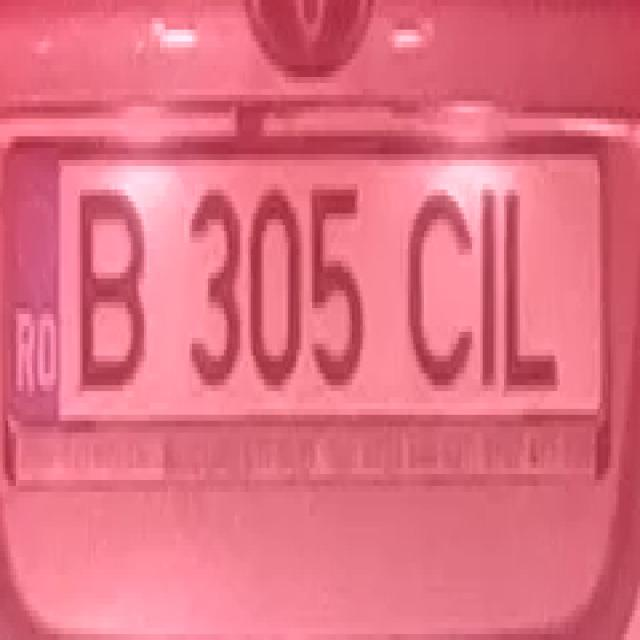EU: (0, 127, 612, 490)
Romanie: (11, 136, 68, 422)
